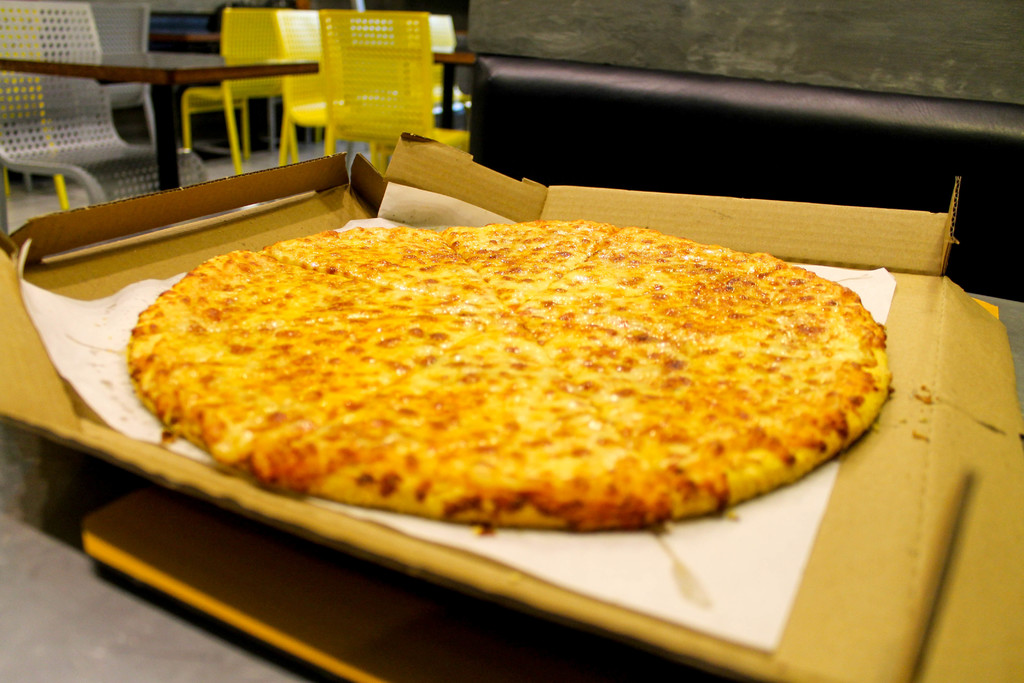Pizza: (121, 204, 904, 541)
